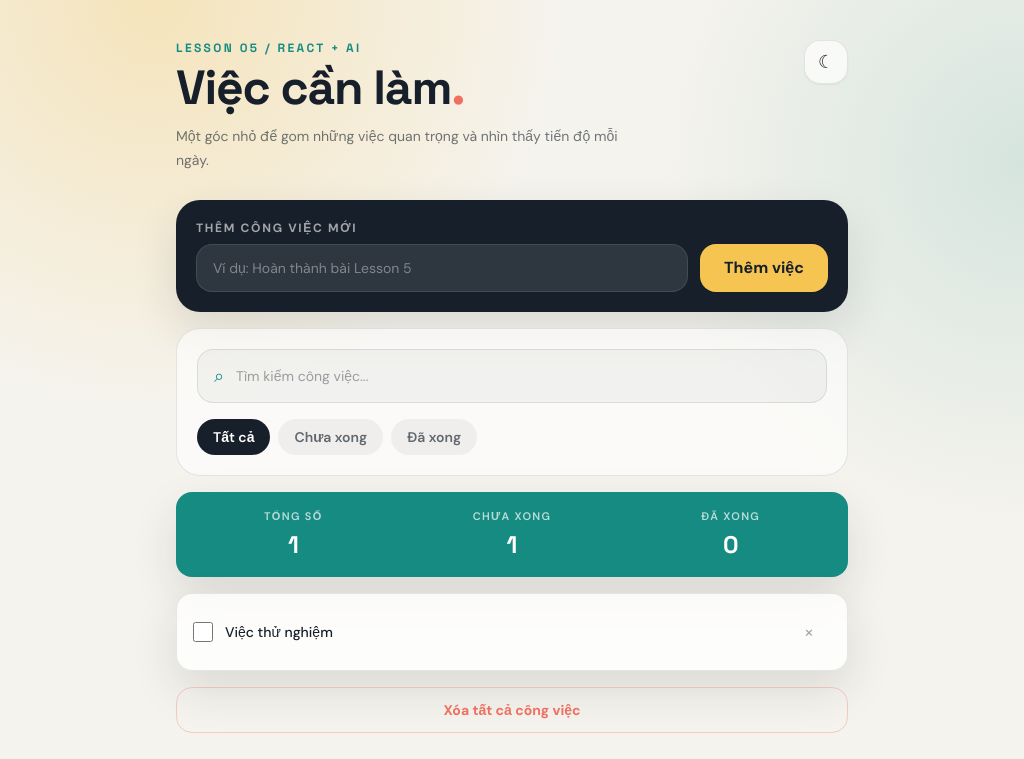
it: toggles and deletes a todo
Click the checkbox named "Đánh dấu hoàn thành: Việc thử nghiệm" at [203, 632], box [193,622,213,642]
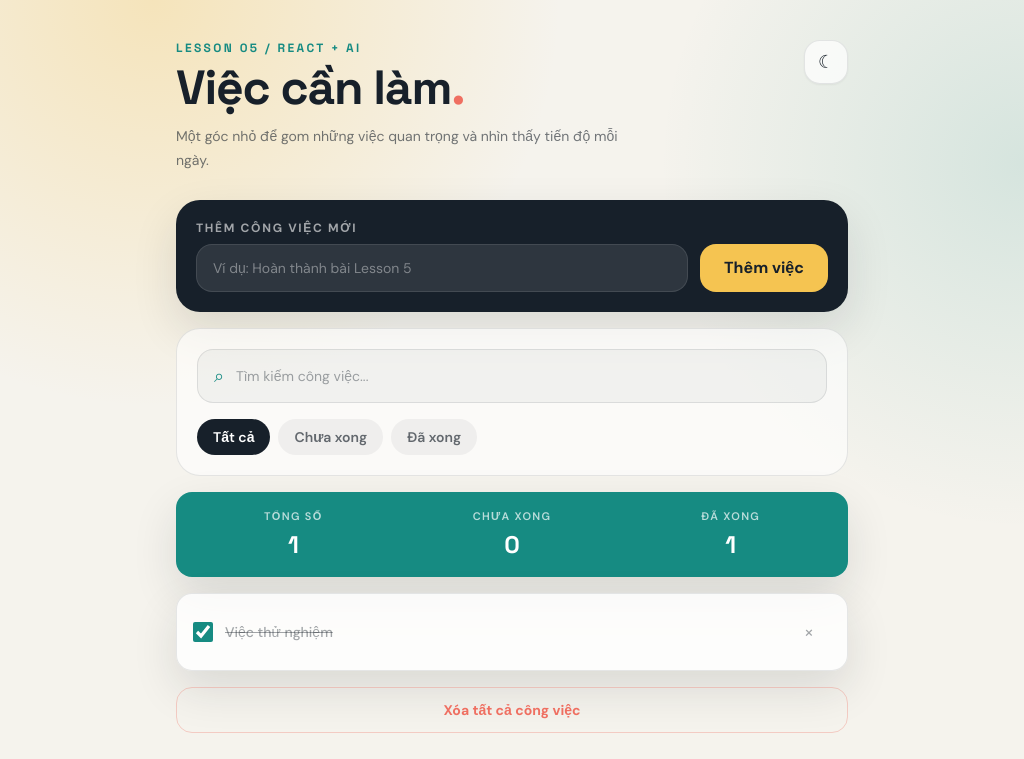
Now the checkbox named "Đánh dấu hoàn thành: Việc thử nghiệm" is checked, box [193,622,213,642]
Click the button named "Xóa công việc: Việc thử nghiệm" at [809, 632], box [787,610,831,654]
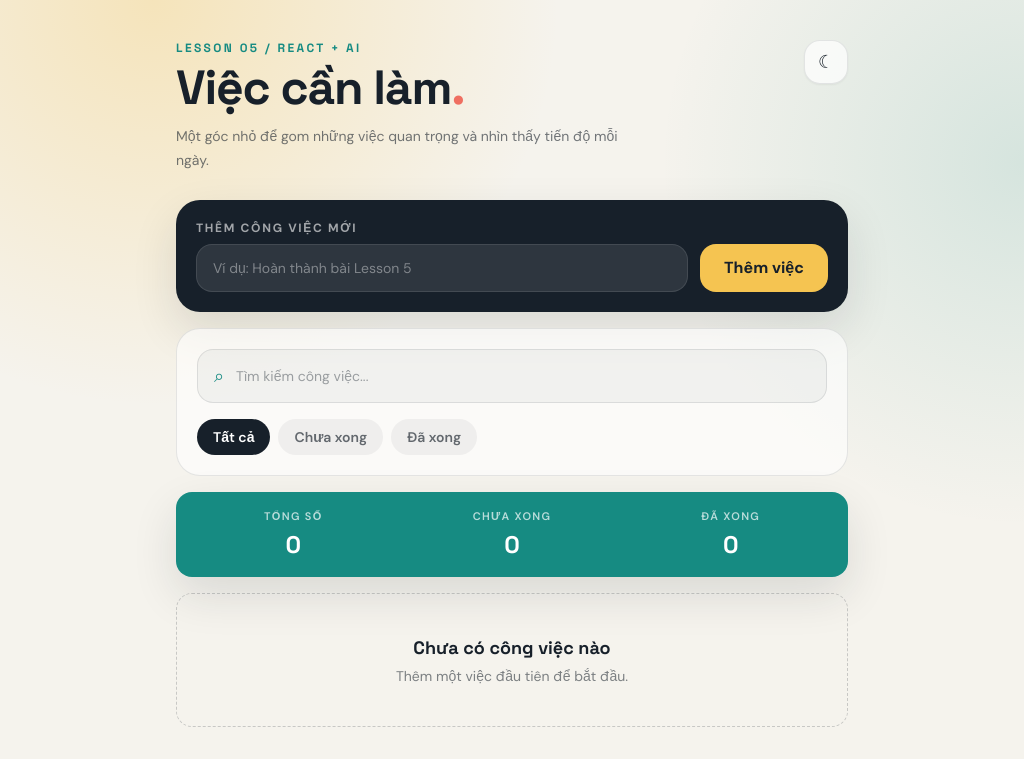
Now the text "Chưa có công việc nào" is shown, box [413,636,611,658]
